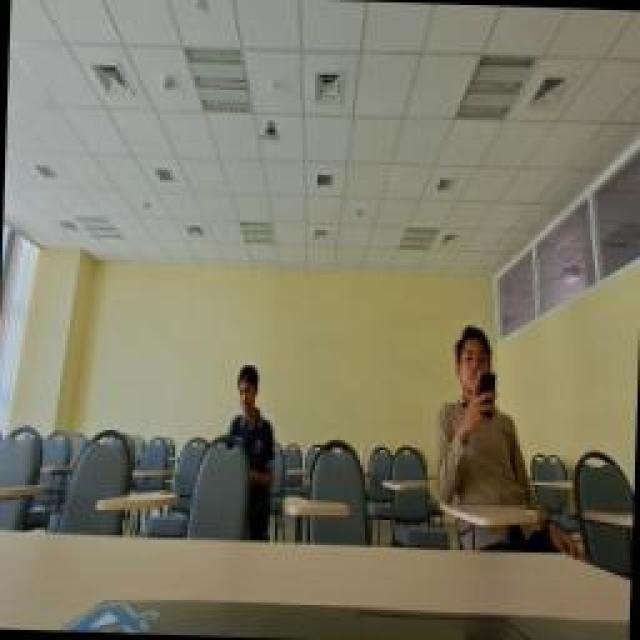phone: (432, 325, 538, 510)
study: (215, 365, 277, 493)
